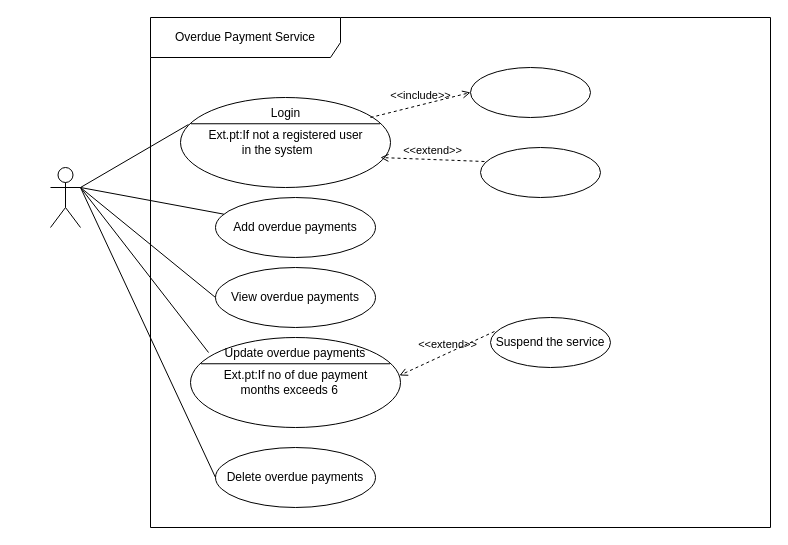
The diagram is 788 pixels wide and 545 high, and some of its shapes have lost their labels. The box of each missing label's shape, as (x1, y1, x2, y2) in pixels:
Overdue Payment handler: (50, 166, 80, 228)
Register: (480, 146, 600, 198)
Validate User: (470, 66, 590, 118)
